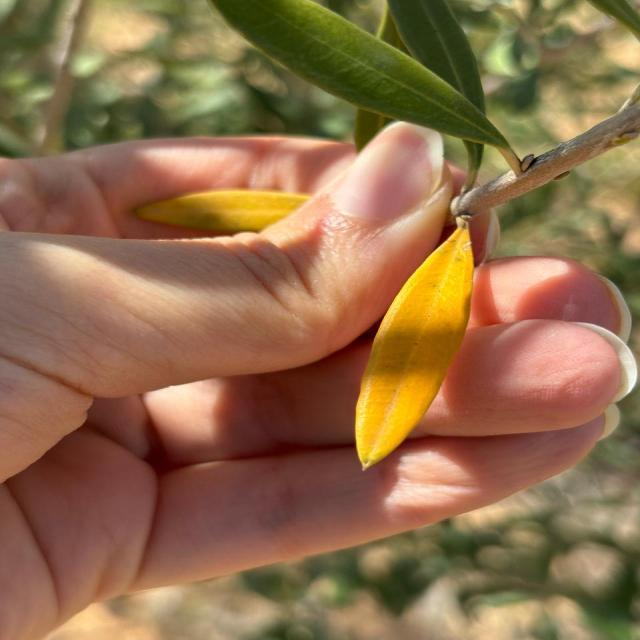OlivePeacockSpot: (355, 218, 474, 470), (134, 189, 309, 237)
